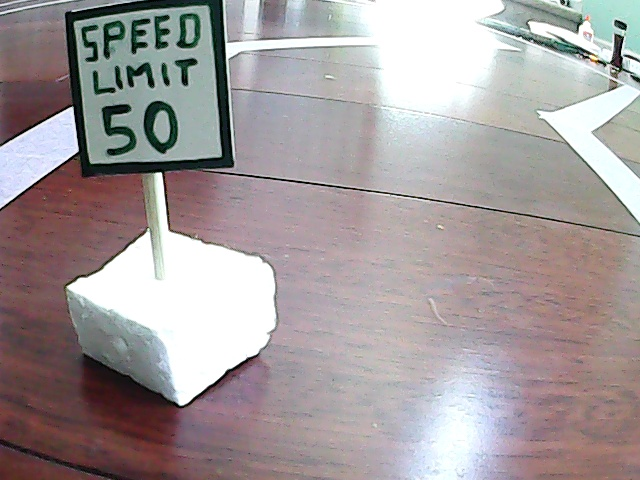speed_50: (53, 8, 278, 390)
